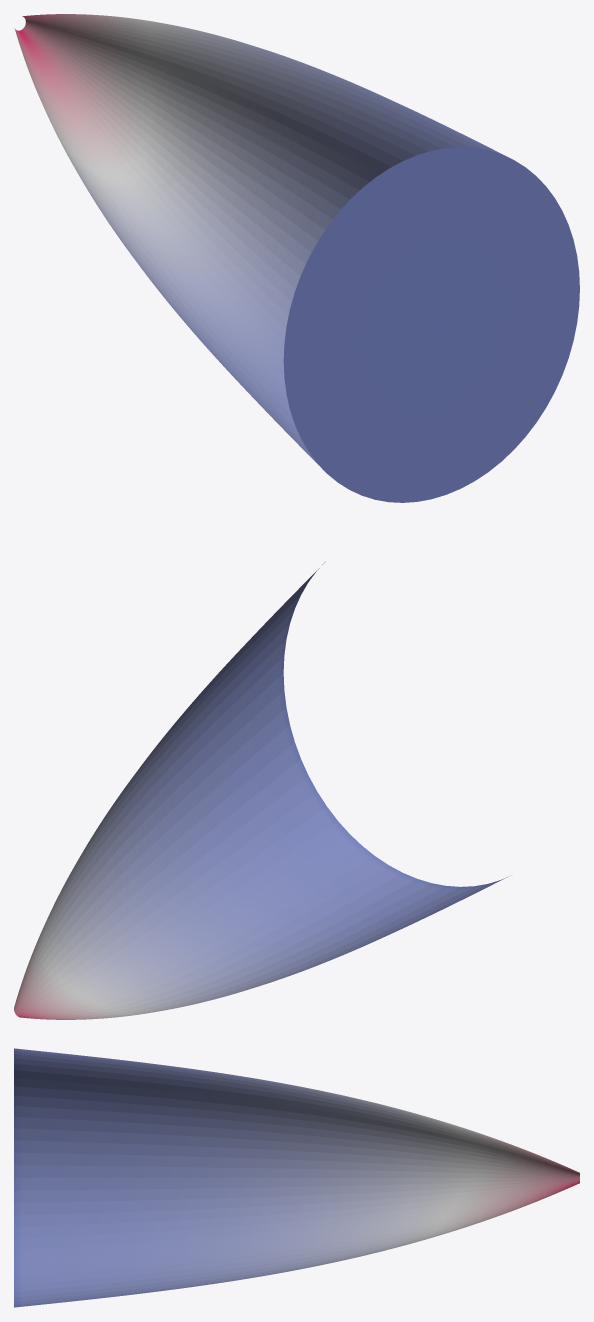
The model's file is frame_008.glb.
3 views of the same model, one above another, from view 1: azimuth 30°, elevation 25°; view 2: azimuth 150°, elevation 25°; view 3: azimuth 270°, elevation 25° (orthographic). The views are drawn at different scales.
Parts seen in each view (by area): view 1: world; view 2: world; view 3: world.
Part boxes in pixels (x1=…): world: x1=14, y1=14, x2=579, y2=502; world: x1=14, y1=561, x2=510, y2=1019; world: x1=14, y1=1048, x2=579, y2=1307.
Size of the model in its own units: 0.4154 by 0.4667 by 1.
